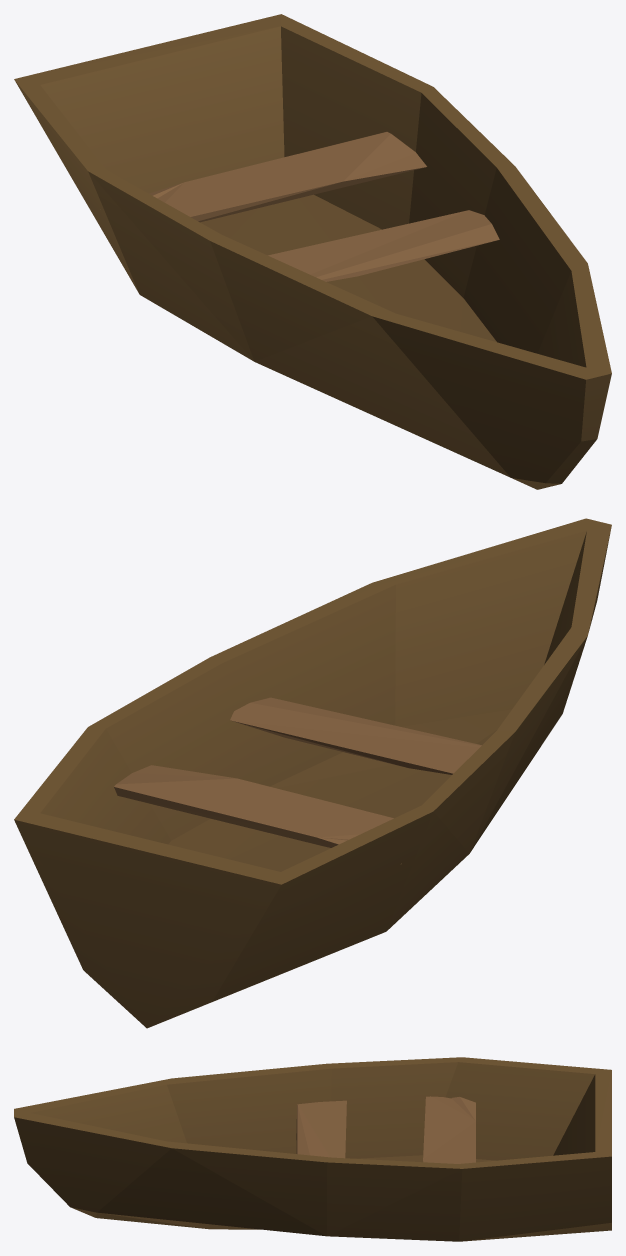
File: Boat.fbx
3 renders of one model, top to bottom at view 1: azimuth 30°, elevation 25°; view 2: azimuth 150°, elevation 25°; view 3: azimuth 270°, elevation 25°, orthographic. The views are drawn at different scales.
Visible parts, largest first — view 1: Boat; view 2: Boat; view 3: Boat.
Part boxes in pixels (box(x1,y1,x2,y2)): Boat: box(14, 14, 611, 489); Boat: box(14, 518, 611, 1028); Boat: box(14, 1057, 611, 1241).
Size of the model in its own units: 1.3 by 0.6359 by 2.94.
